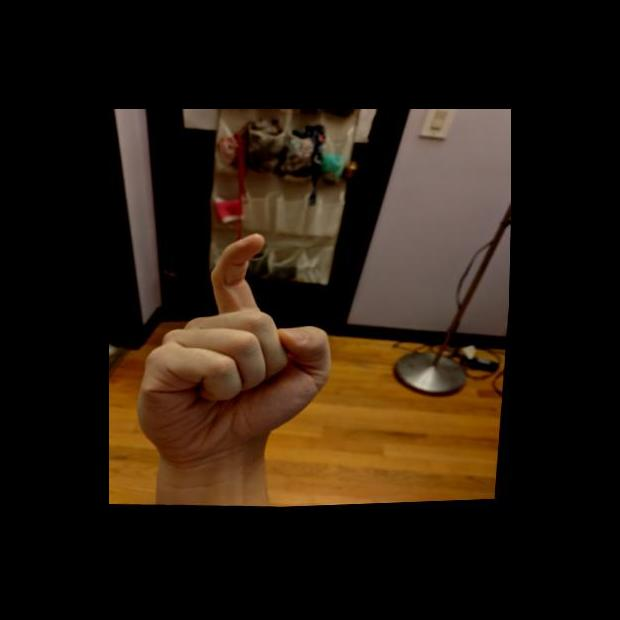W: (129, 223, 347, 472)
